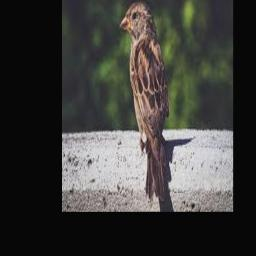Sparrow: (120, 0, 170, 201)
